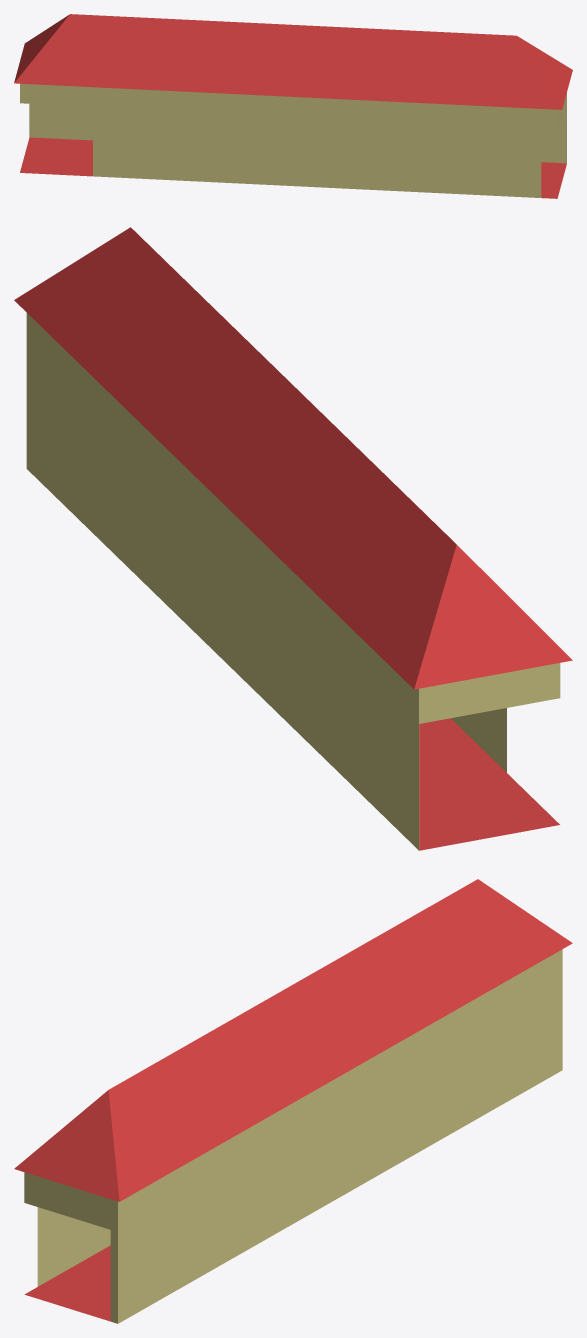
3 renders of one model, top to bottom at view 1: azimuth 30°, elevation 25°; view 2: azimuth 150°, elevation 25°; view 3: azimuth 270°, elevation 25°, orthographic. The views are drawn at different scales.
Visible parts, largest first — view 1: group_5, group_3, group_4, group_6; view 2: group_3, group_5, group_6, group_4; view 3: group_5, group_3, group_6, group_4.
Part boxes in pixels (box(x1,y1,x2,y2)): group_5: box(20, 83, 566, 197); group_3: box(14, 14, 572, 109); group_4: box(14, 66, 572, 109); group_6: box(20, 137, 566, 198); group_3: box(16, 227, 572, 689); group_5: box(26, 313, 560, 850); group_6: box(419, 718, 559, 850); group_4: box(14, 292, 569, 679); group_5: box(24, 949, 562, 1323); group_3: box(14, 879, 572, 1201); group_6: box(24, 1245, 110, 1321); group_4: box(61, 1022, 411, 1201).
Size of the model in its own units: 47.2 by 38.22 by 14.93.
